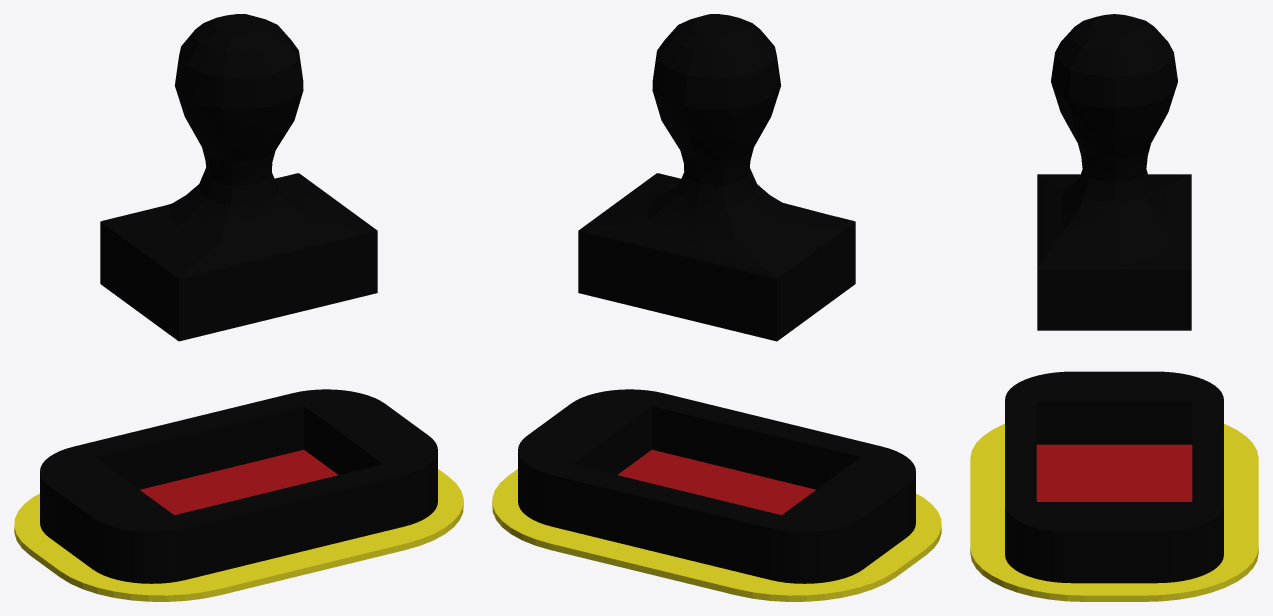
Rendered from 0515stamp.fbx.
3 views of the same model, side by side, from view 1: azimuth 30°, elevation 25°; view 2: azimuth 150°, elevation 25°; view 3: azimuth 270°, elevation 25° (orthographic).
Parts seen in each view (by area): view 1: Stamphouse, Stamp, LIGHT_S; view 2: Stamphouse, Stamp, LIGHT_S; view 3: Stamphouse, Stamp, LIGHT_S.
Boxes of the visible parts, <box> form: Stamphouse: <box>40,389,437,583</box>; Stamp: <box>100,14,377,341</box>; LIGHT_S: <box>14,469,463,601</box>; Stamphouse: <box>518,389,915,583</box>; Stamp: <box>578,14,855,341</box>; LIGHT_S: <box>492,469,941,601</box>; Stamphouse: <box>1005,371,1223,583</box>; Stamp: <box>1037,14,1191,330</box>; LIGHT_S: <box>970,424,1258,601</box>.
Bounding box in the file's own units: 9.42 × 11.47 × 6.18.
